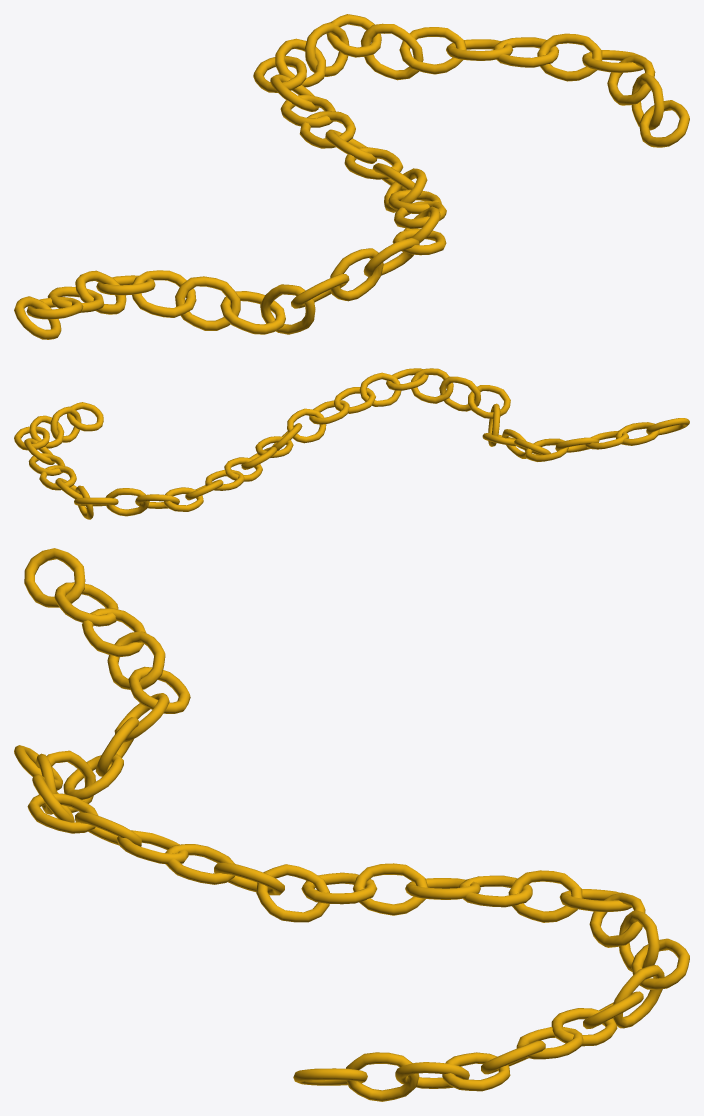
Rendered from cadena.fbx.
3 renders of one model, top to bottom at view 1: azimuth 30°, elevation 25°; view 2: azimuth 150°, elevation 25°; view 3: azimuth 270°, elevation 25°, orthographic. The views are drawn at different scales.
Parts seen in each view (by area): view 1: Rosca.035; view 2: Rosca.035; view 3: Rosca.035.
Part boxes in pixels (bbox=[...]): Rosca.035: bbox=[14, 14, 689, 339]; Rosca.035: bbox=[14, 368, 689, 519]; Rosca.035: bbox=[14, 548, 689, 1101].
Size of the model in its own units: 181 by 24.81 by 116.
